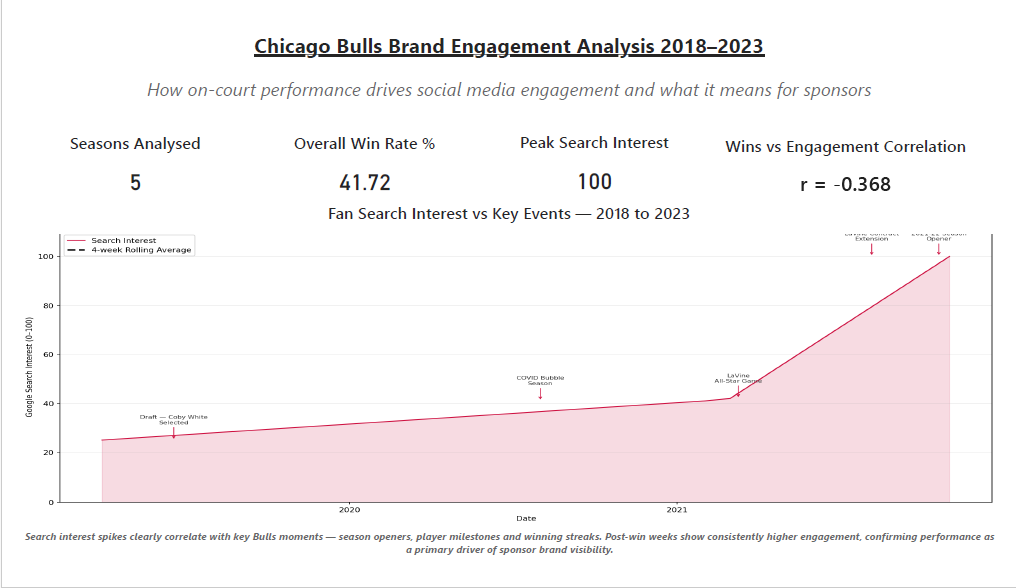

The page's visual inventory and layout, read from the dashboard file:
{"tool":"powerbi","page":{"name":"executive summary","canvas":[1280,720],"ordinal":0},"visuals":[{"type":"textbox","box":[0,11.8,1280,58.8],"z":0},{"type":"textbox","box":[0,70.6,1280,53.8],"z":1000},{"type":"card","title":"Seasons Analysed","fields":{"Values":["CountNonNull(sql_query1_season_performance.SEASON)"]},"box":[0,147.8,300.7,100.8],"z":2000},{"type":"card","title":"Overall Win Rate %","fields":{"Values":["Avg(sql_query1_season_performance.win_rate_pct)"]},"box":[300.7,147.8,300.7,100.8],"z":3000},{"type":"card","title":"Peak Search Interest","fields":{"Values":["Max(bulls_weekly_analysis.Search_Interest)"]},"box":[600.7,147.3,301.8,100.1],"z":4000},{"type":"image","box":[0,247.4,1280,416.2],"z":4500},{"type":"textbox","box":[902.4,147.3,356.1,100.1],"z":6000},{"type":"textbox","box":[0,234.5,1280,47.2],"z":7000},{"type":"textbox","box":[0,664.2,1280.6,55.8],"z":8001}]}

Visuals, with their boxes in screenshot pixels (x1, y1, x2, y2), scaled from the page's 1280x720 canvas onto the 1016x588 screenshot:
textbox: box(0, 10, 1015, 58)
textbox: box(0, 58, 1015, 102)
"Seasons Analysed" card: box(0, 121, 239, 203)
"Overall Win Rate %" card: box(239, 121, 477, 203)
"Peak Search Interest" card: box(477, 120, 716, 202)
image: box(0, 202, 1015, 542)
textbox: box(716, 120, 999, 202)
textbox: box(0, 192, 1015, 230)
textbox: box(0, 542, 1015, 587)
